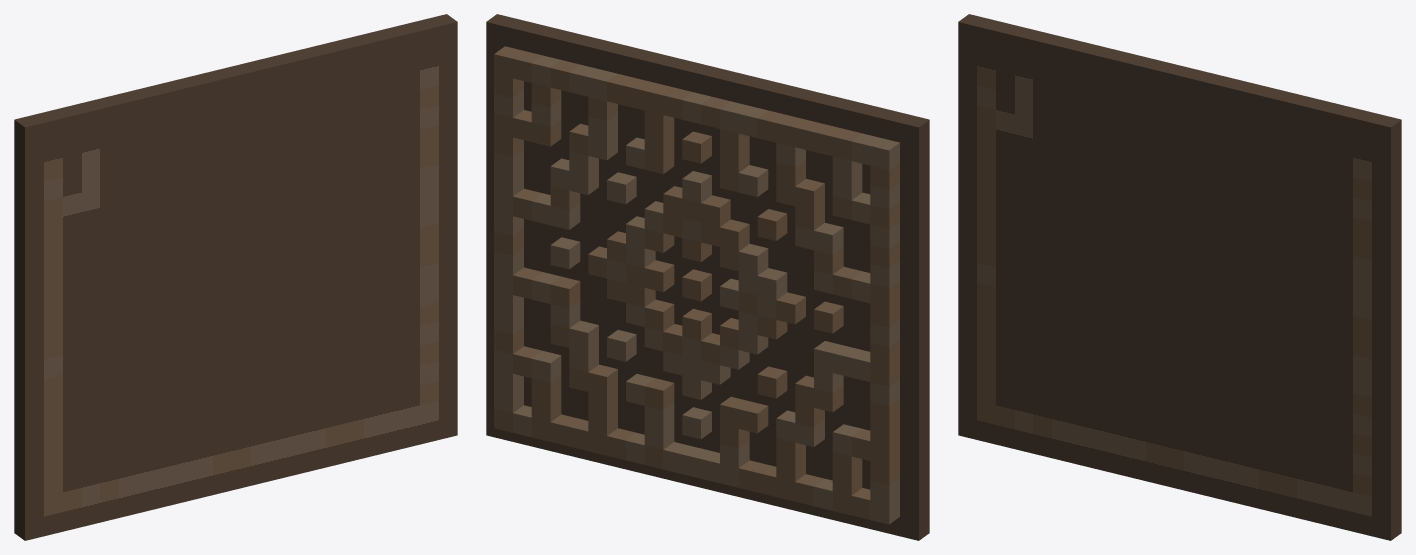
Rendered from Cuadro.fbx.
3 views of the same model, side by side, from view 1: azimuth 30°, elevation 25°; view 2: azimuth 150°, elevation 25°; view 3: azimuth 330°, elevation 25° (orthographic).
Visible parts, largest first — view 1: Cuadro:Mesh; view 2: Cuadro:Mesh; view 3: Cuadro:Mesh.
Boxes of the visible parts, x1,y1,x2,y2 form: Cuadro:Mesh: (14,14,457,540); Cuadro:Mesh: (486,14,929,540); Cuadro:Mesh: (958,14,1401,540).
Size of the model in its own units: 2.3 by 2.1 by 0.2.
